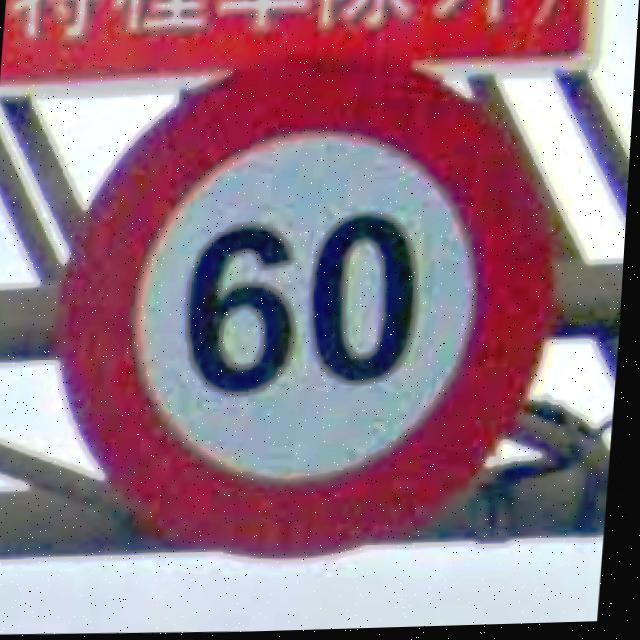max60: (37, 47, 579, 571)
